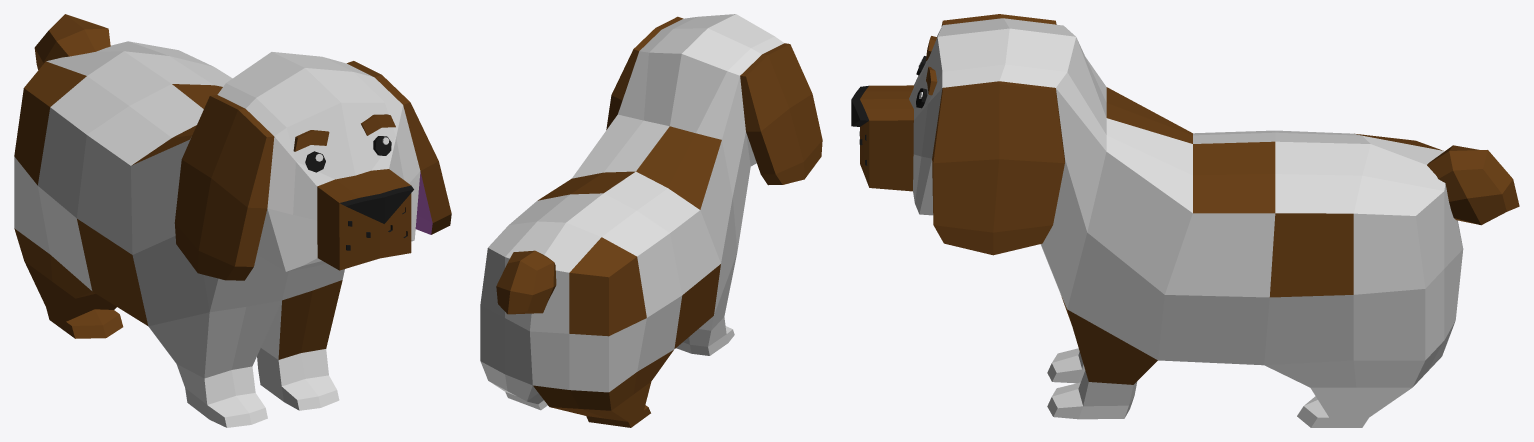
Rendered from Dog_01.fbx.
3 views of the same model, side by side, from view 1: azimuth 30°, elevation 25°; view 2: azimuth 150°, elevation 25°; view 3: azimuth 270°, elevation 25° (orthographic). The views are drawn at different scales.
Visible parts, largest first — view 1: Dog_01; view 2: Dog_01; view 3: Dog_01.
Boxes of the visible parts, x1,y1,x2,y2 form: Dog_01: (14,14,451,427); Dog_01: (480,14,822,427); Dog_01: (851,14,1519,427).
Size of the model in its own units: 3.91 by 5.86 by 9.83.
